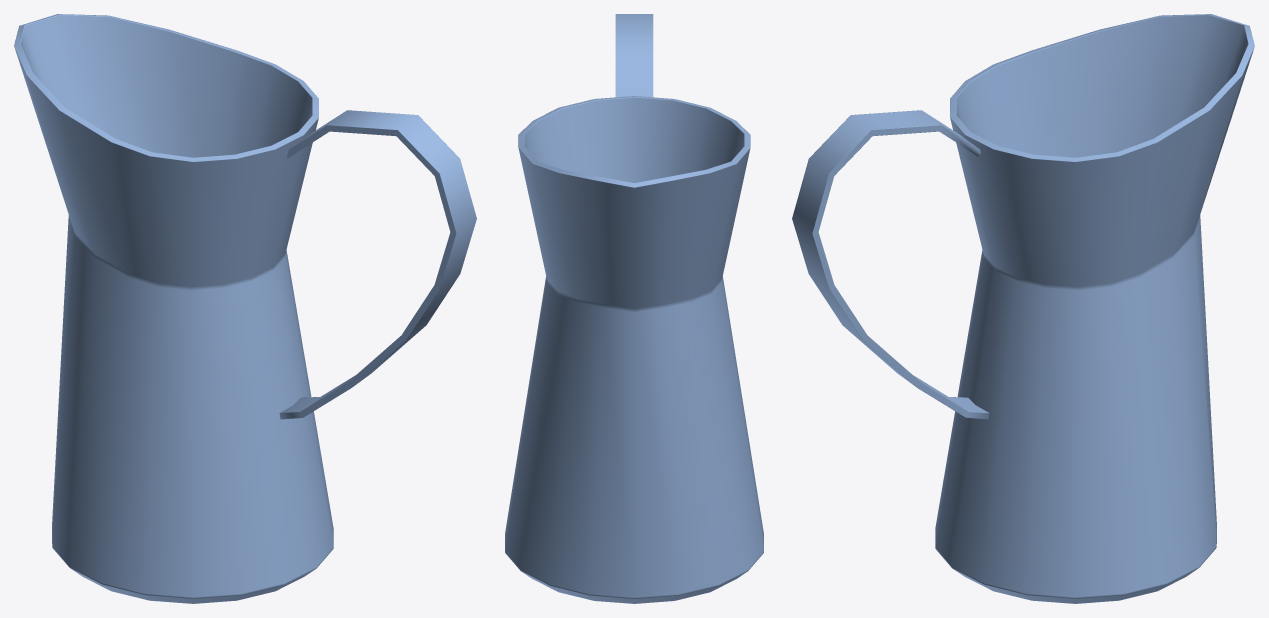
Rendered from jug.fbx.
The picture shows the model from 3 angles, left to right: view 1: azimuth 30°, elevation 25°; view 2: azimuth 150°, elevation 25°; view 3: azimuth 270°, elevation 25°; orthographic projection. The views are drawn at different scales.
Parts seen in each view (by area): view 1: jug; view 2: jug; view 3: jug.
Part boxes in pixels (<box>): jug: <box>14,14,476,603</box>; jug: <box>505,14,763,603</box>; jug: <box>792,14,1254,603</box>.
Bounding box in the file's own units: 14.14 × 23.66 × 20.51.
